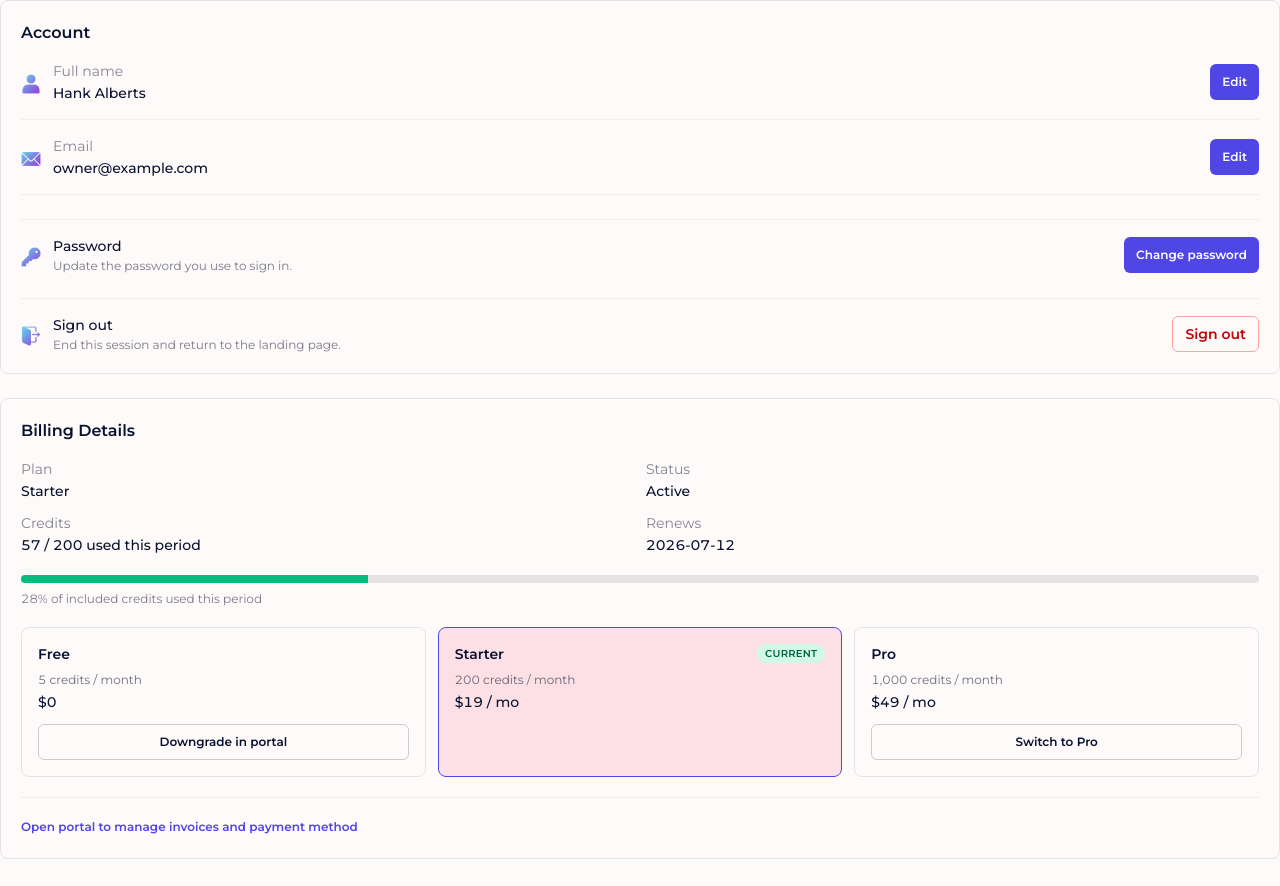
Test: AccountForm — editable full name › shows the pending-email banner after a successful email change
Click the button with aria-label "Edit email".
click(1235, 157)  # box left=1210, top=139, right=1259, bottom=175
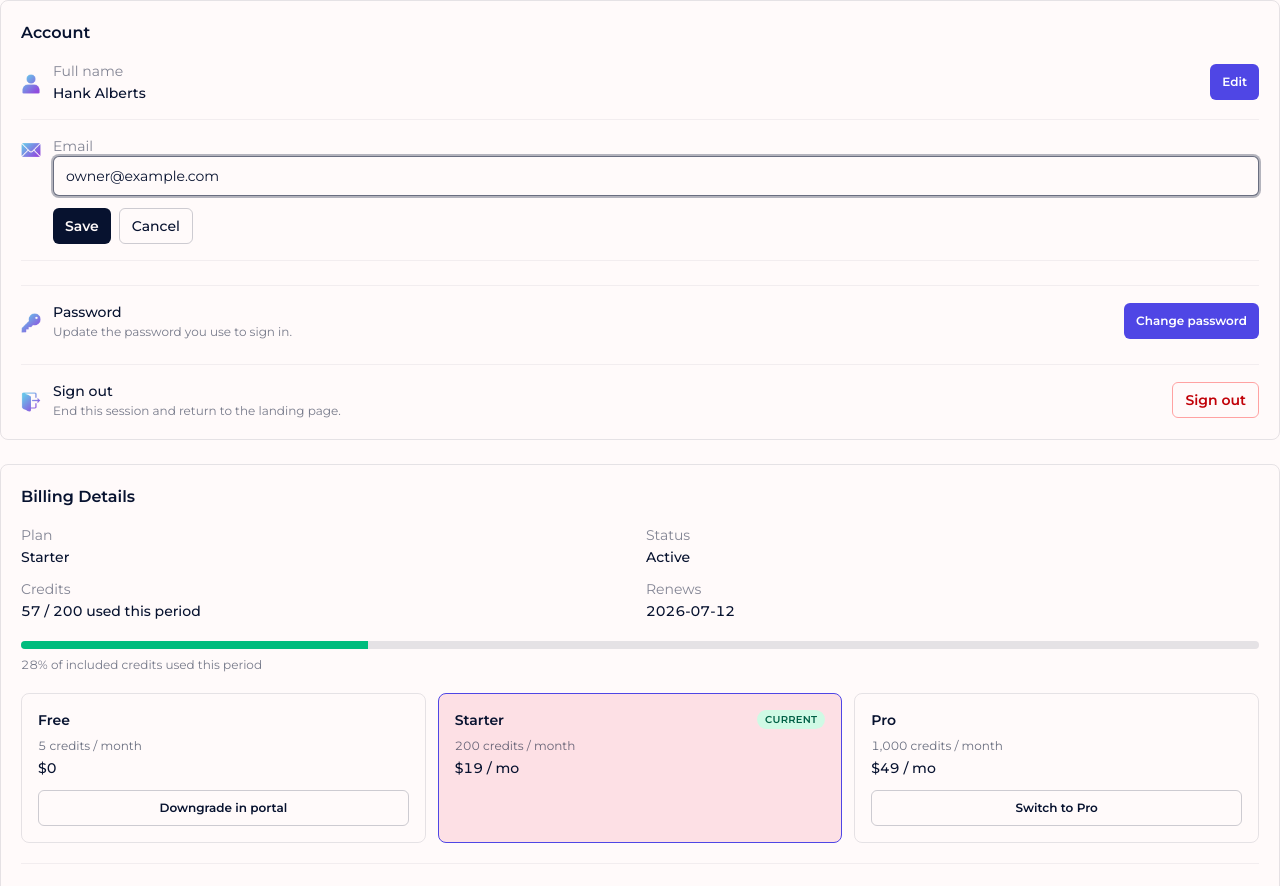
Replace the text in the field labelled "Email" with "new@example.com" at (656, 176), box left=53, top=156, right=1259, bottom=196
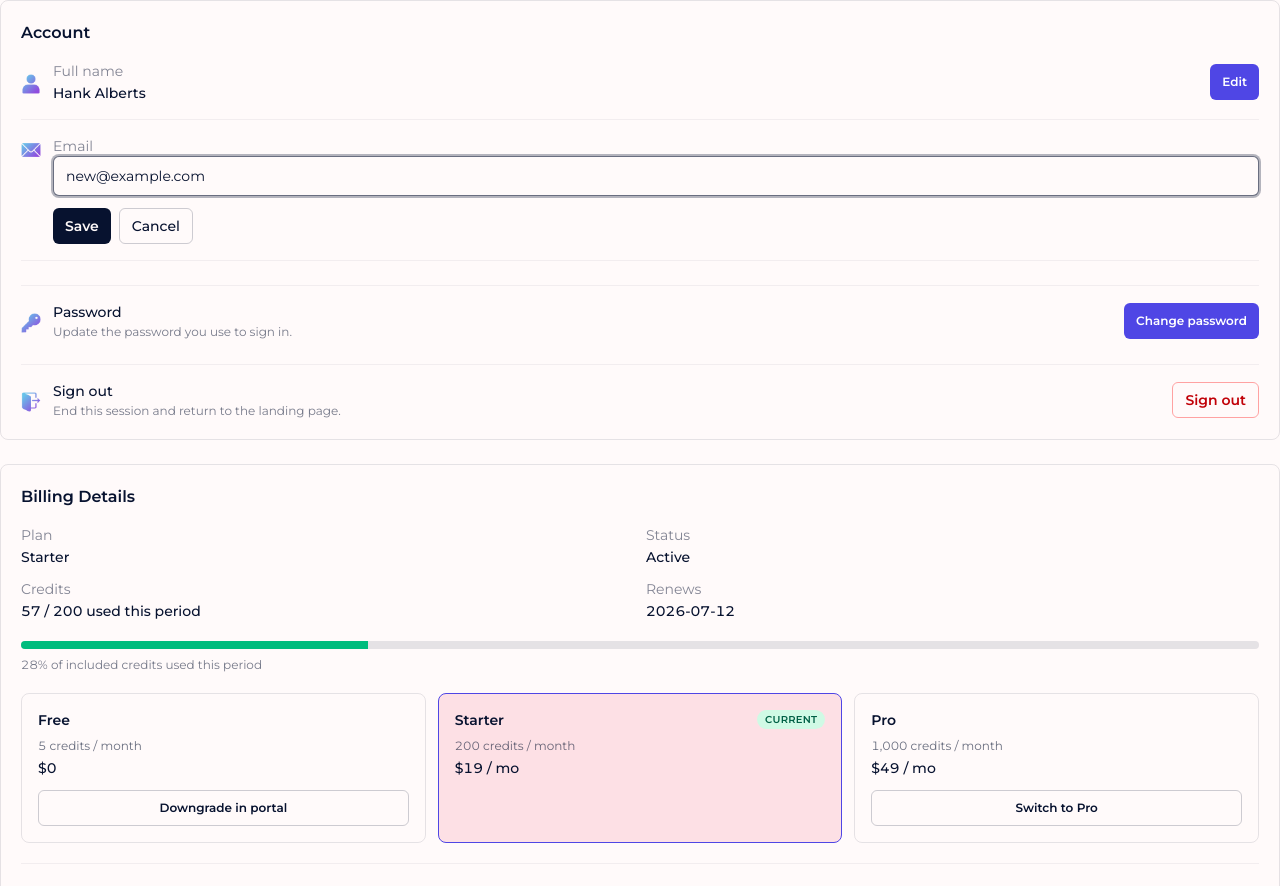
Click the button "Save".
click(82, 226)  # box left=53, top=208, right=111, bottom=244
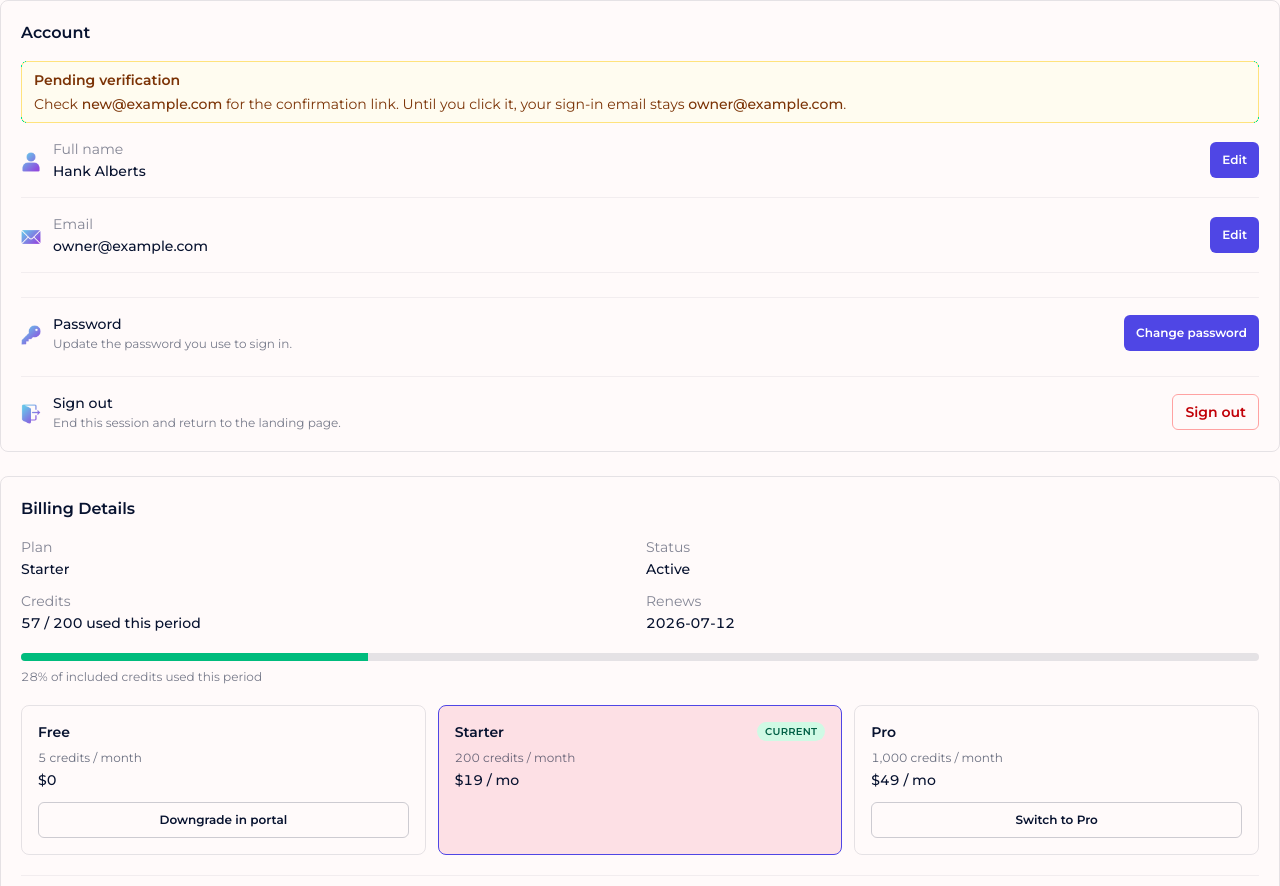
Expected: the text "Pending verification" is shown, left=34, top=71, right=180, bottom=89
Expected: the text "new@example.com" is shown, left=82, top=95, right=222, bottom=113
